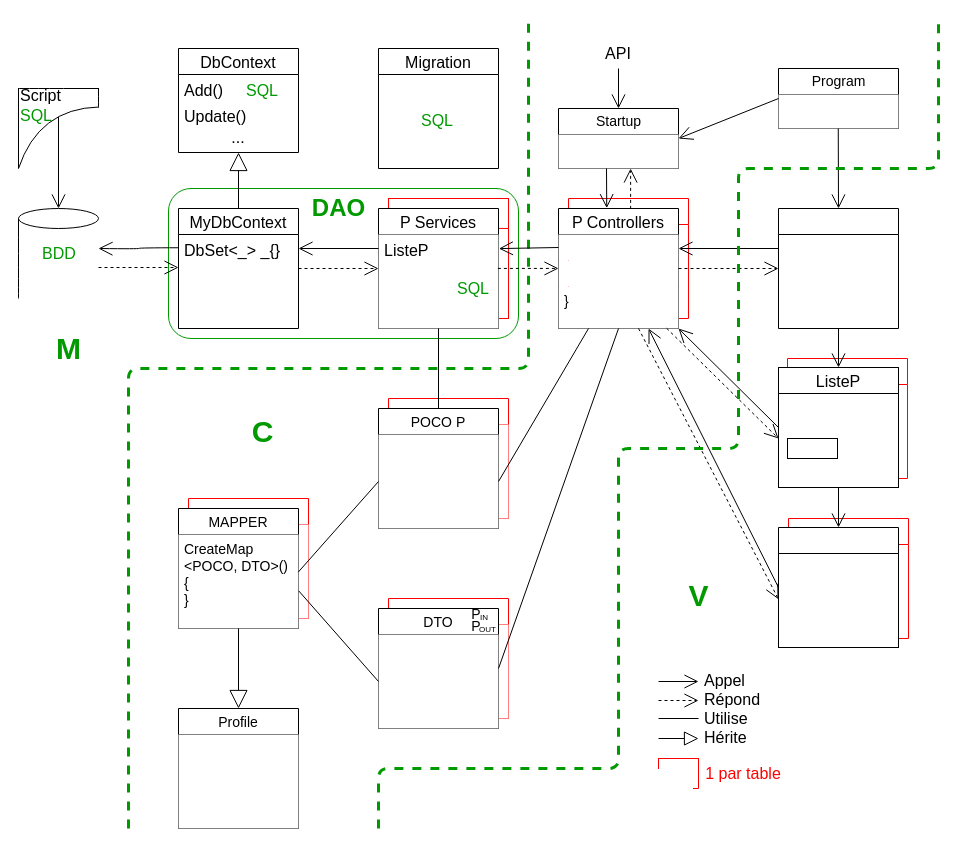
Some shapes in this 958 by 849 pixel diagram are drawn without their labels. Here are the shapes that lost their labels. From the top down, the centre of each, then its label:
pixel 618 247: ListeP(){
pixel 618 273: _service.ListeP();
pixel 838 268: MainWindow
pixel 812 448: Add
pixel 838 587: FormP
pixel 238 781: CreateMap()
